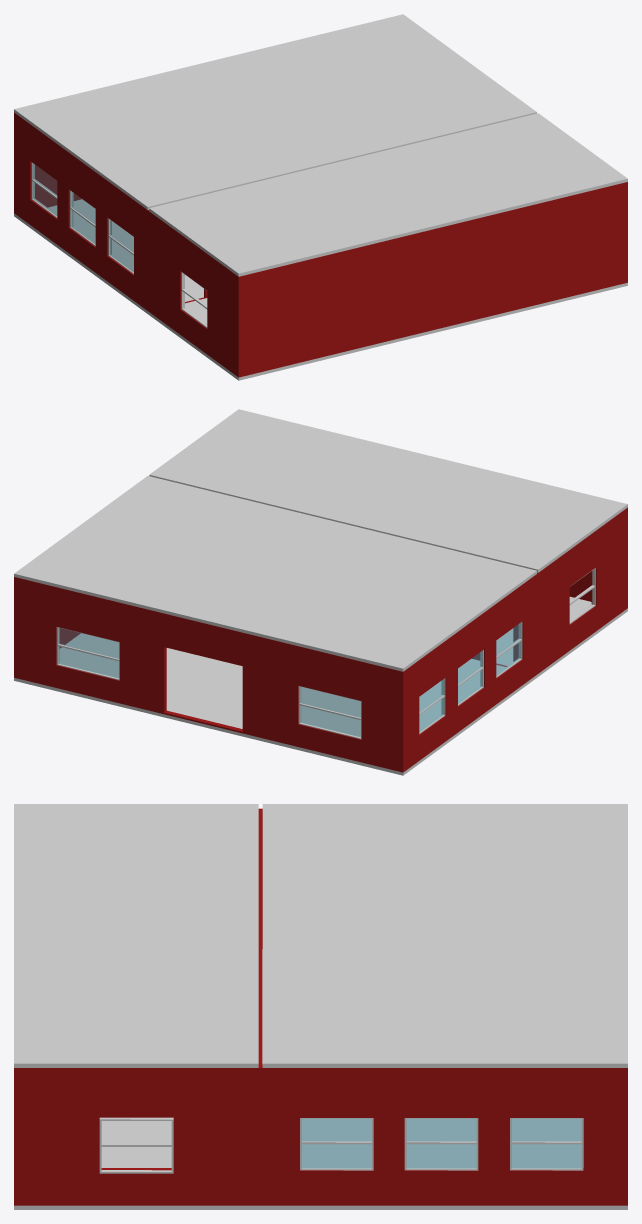
Rendered from restaurant.fbx.
3 renders of one model, top to bottom at view 1: azimuth 30°, elevation 25°; view 2: azimuth 150°, elevation 25°; view 3: azimuth 270°, elevation 25°, orthographic. The views are drawn at different scales.
Parts seen in each view (by area): view 1: roof, restaurant; view 2: roof, restaurant; view 3: roof, restaurant.
Part boxes in pixels (x1,y1,x2,y2): roof: [14, 14, 627, 276]; restaurant: [14, 112, 627, 380]; roof: [14, 409, 627, 671]; restaurant: [14, 507, 627, 775]; roof: [14, 804, 627, 1067]; restaurant: [14, 808, 627, 1209].
Bounding box in the file's own units: 23.62 × 6.17 × 23.46.
